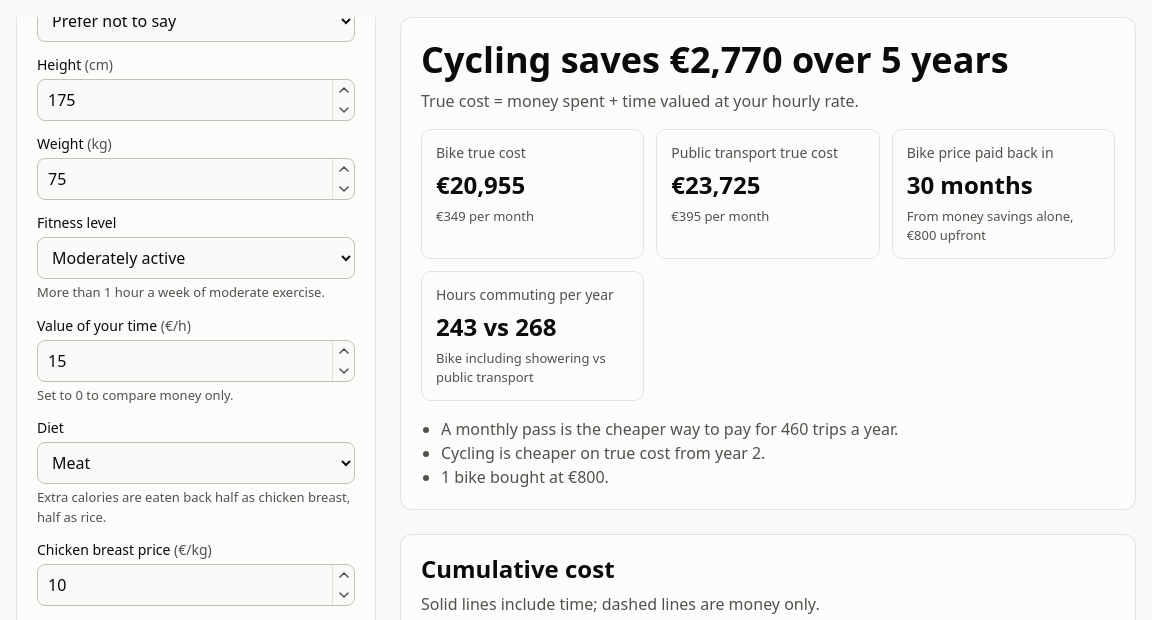
App › recomputes when an input changes
(page scrolled)
Replace the text in the field labelled "Value of your time (€/h)" with "0" at [196, 361], box [37,340,355,382]
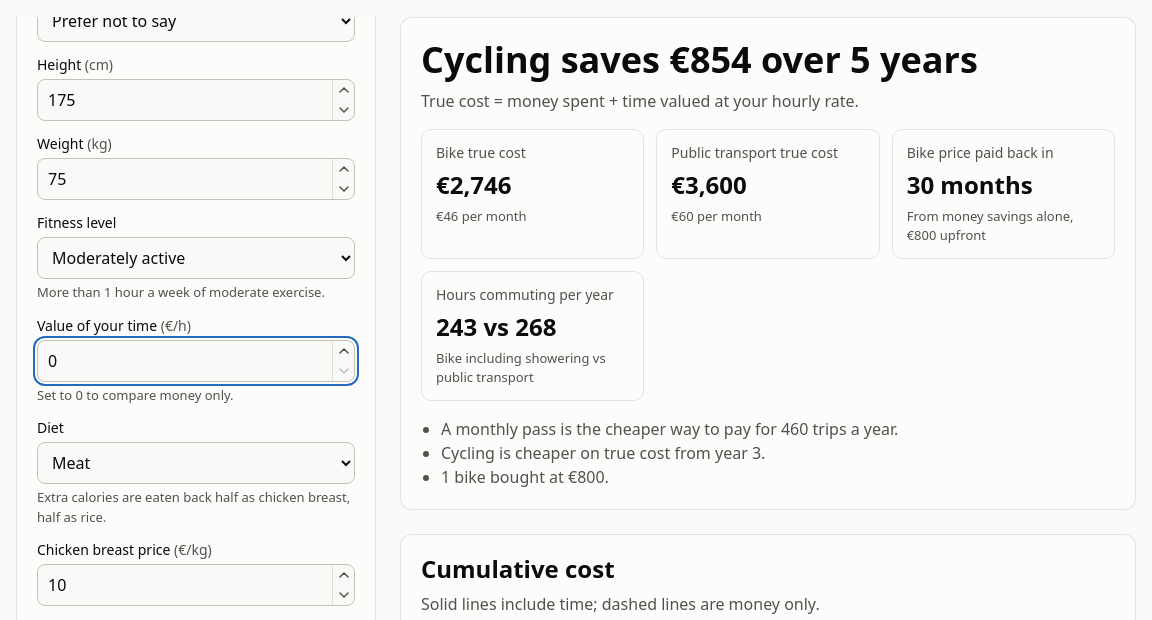
Expected: the heading "Cycling saves €854 over 5 years" is shown, [421,35,978,84]
